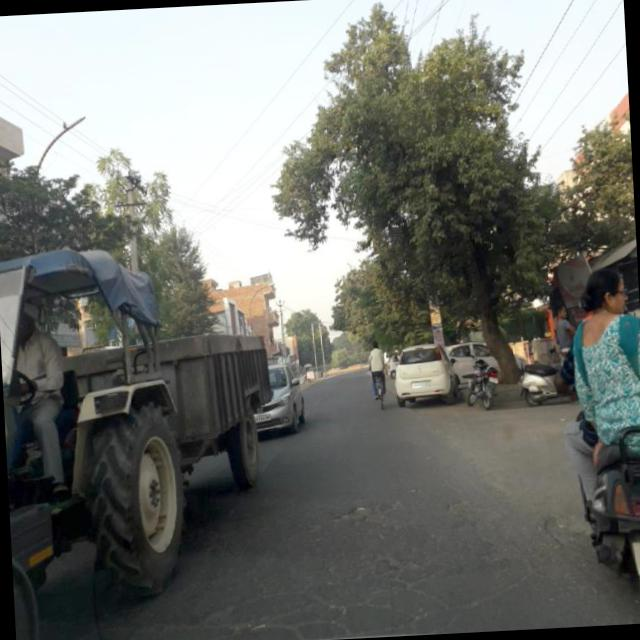crack: (178, 470, 551, 640)
pothole: (330, 488, 411, 530), (197, 583, 255, 632)
